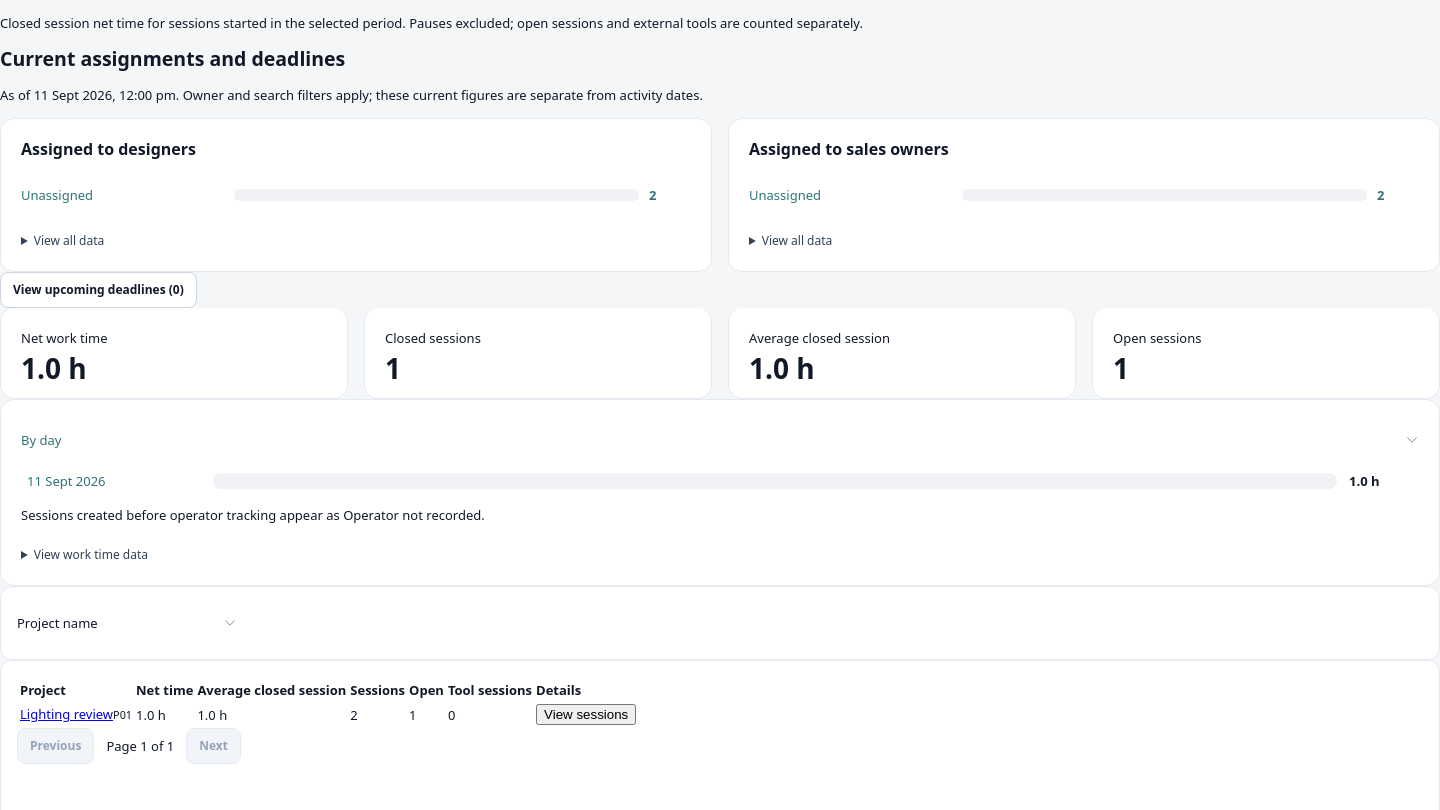
Test: Report detail navigation › separates open session drilldown from net closed work time and keeps operator search
The image size is (1440, 810).
Click the button with aria-label "Open sessions: 1". click: (1157, 338)
box: [1092,308,1439,399]
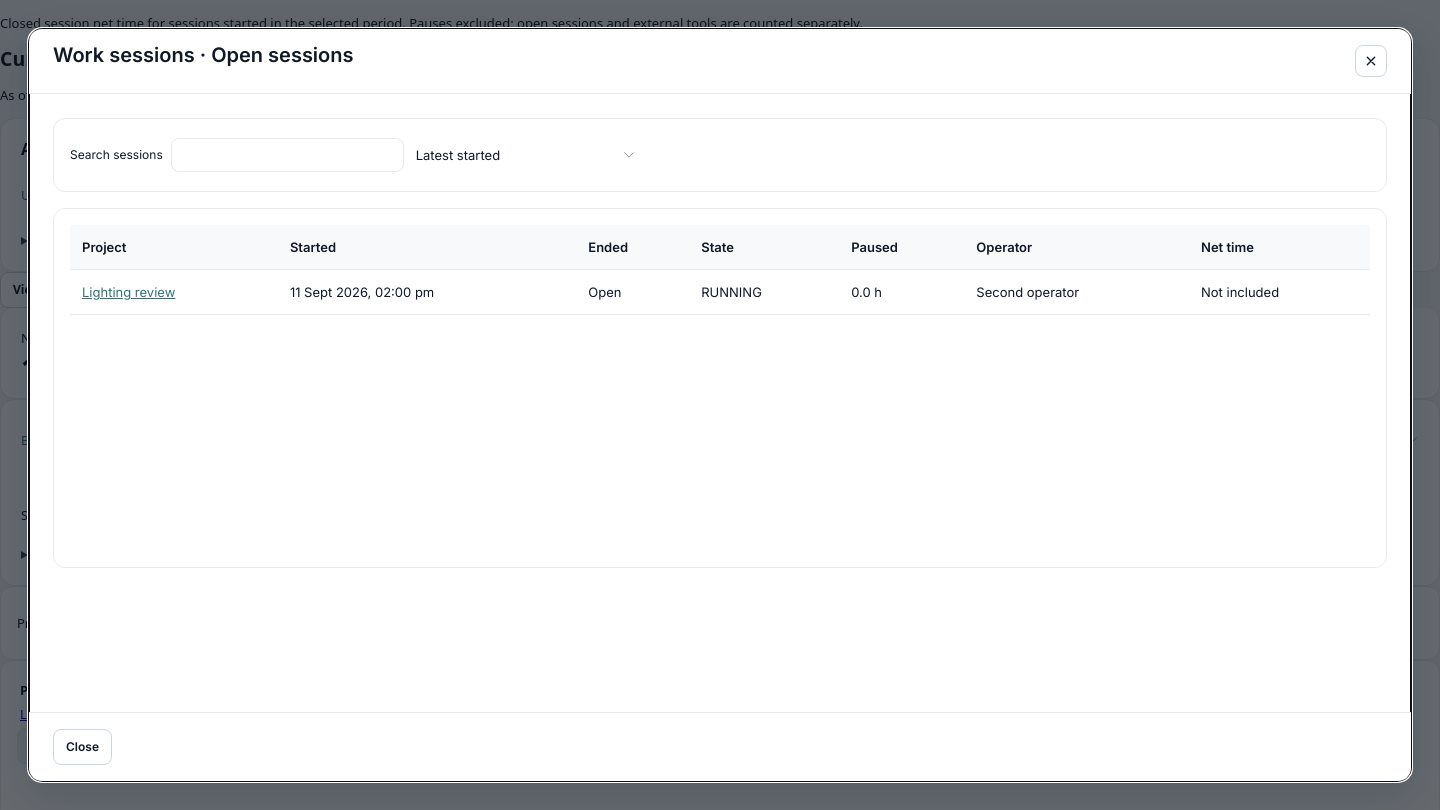
Expected: the text "Second operator" is shown, [964,270,1189,314]
Expected: the text "Not included" is shown, [1189,270,1370,314]
Type "missing operator" into the field labelled "Search sessions". click: (287, 155)
box: [171,138,404,172]
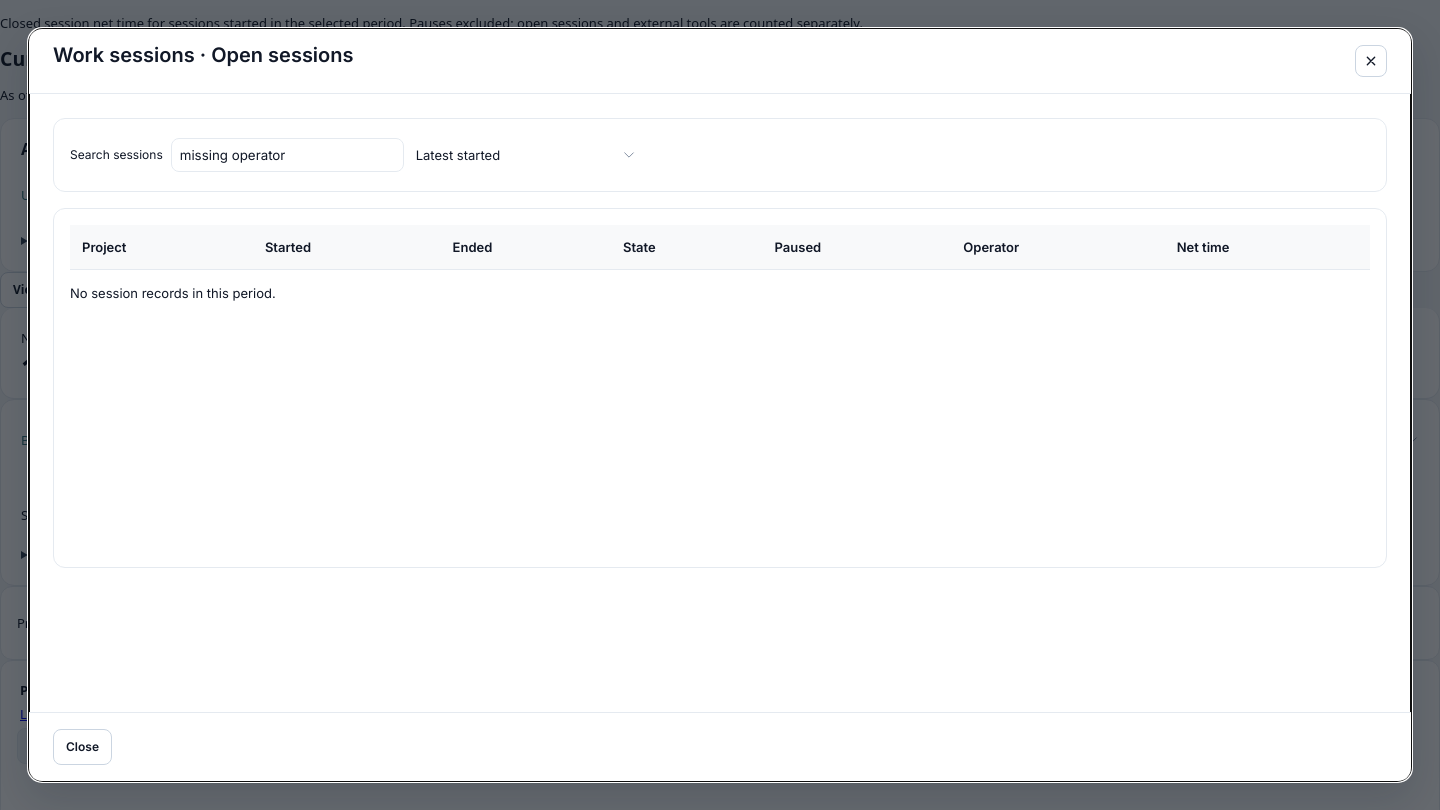
Expected: the text "Second operator" is gone
